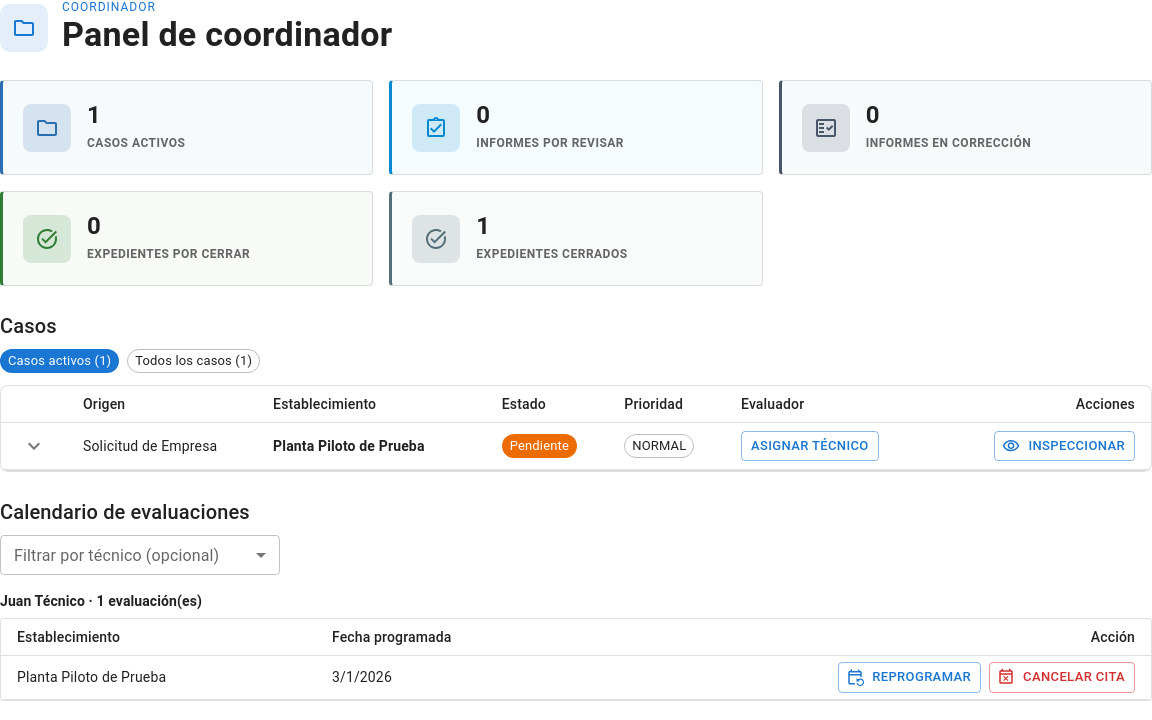
Calendario del coordinador — cancelar cita › muestra el error real del backend y mantiene abierto el diálogo
The image size is (1152, 720).
Click the button "Cancelar cita" at (1062, 677), box [989,662,1135,693]
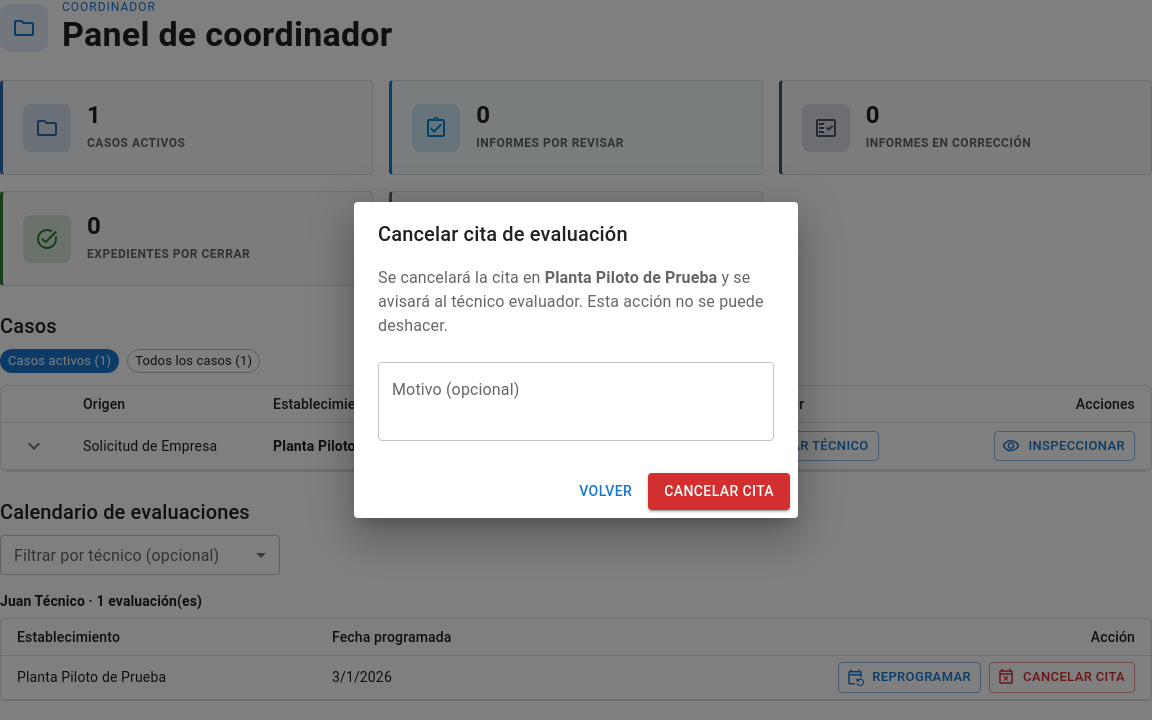
Click the button "Cancelar cita" at (719, 492), box [648,473,790,510]
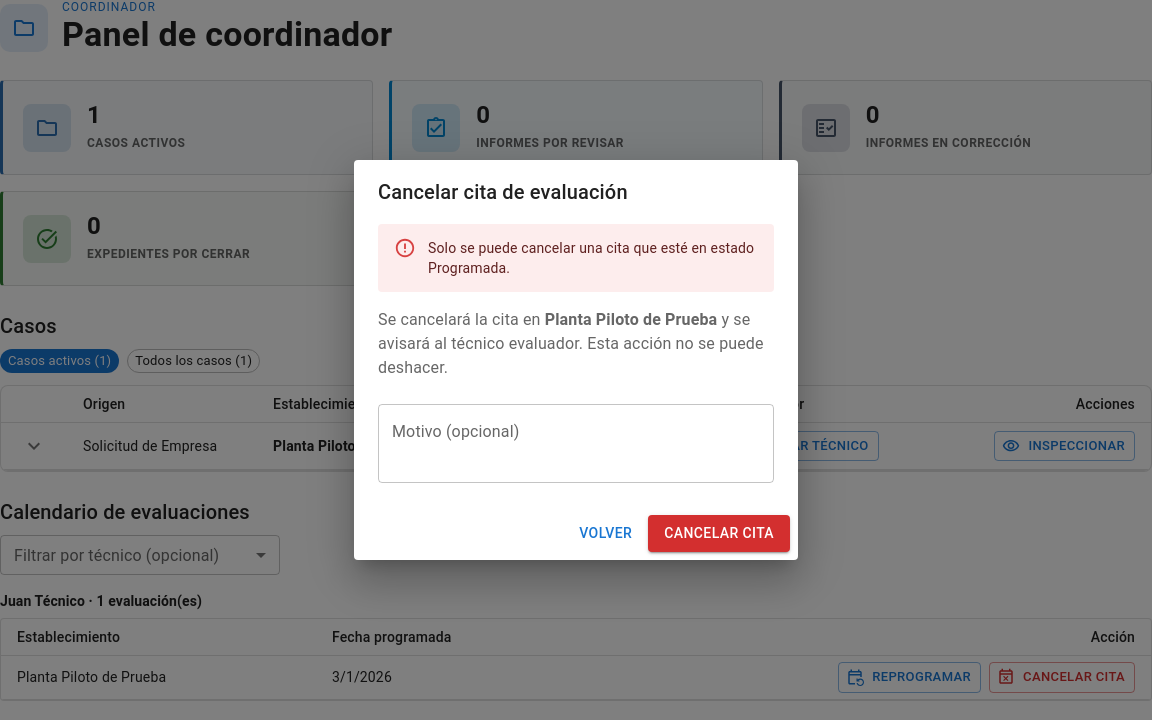
Now the text "Solo se puede cancelar una cita que esté en estado Programada." is shown, box [428,230,758,286]
